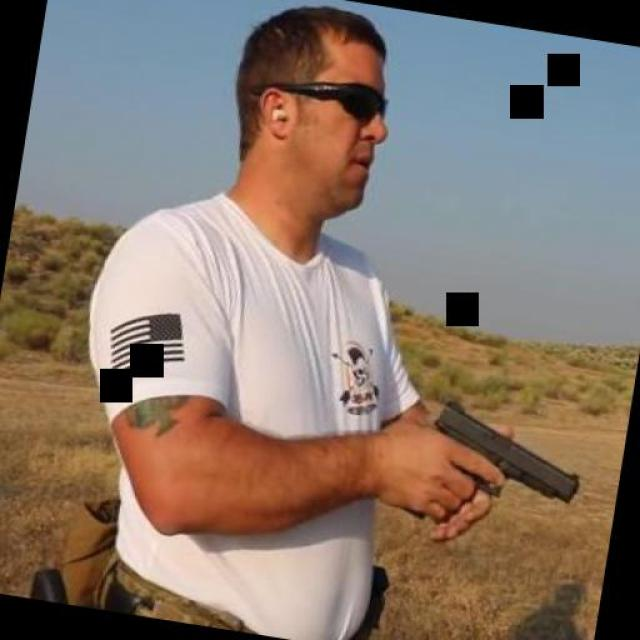gun: (405, 392, 593, 558)
